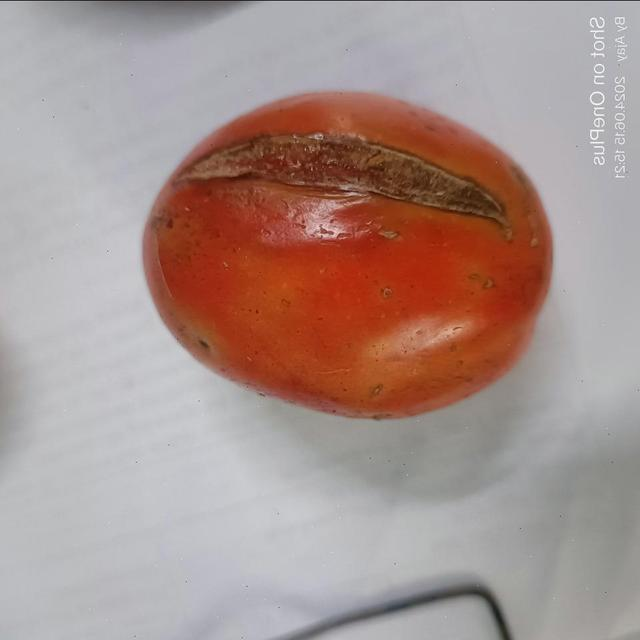Cracking Fruit: (137, 68, 479, 223)
